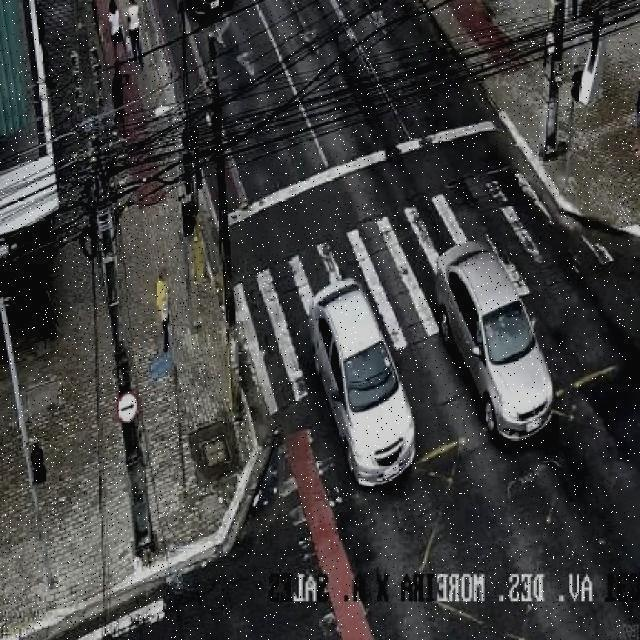Car: (432, 238, 556, 443), (307, 279, 421, 489)
